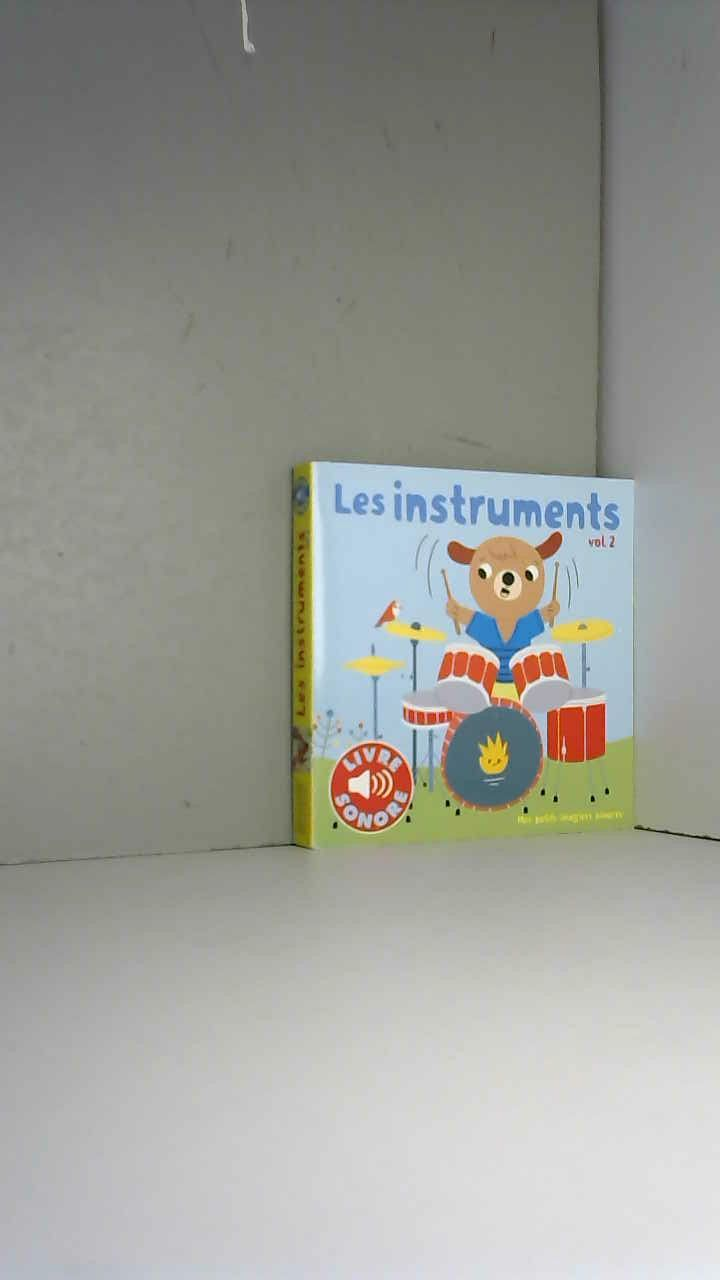book: (275, 445, 652, 867)
